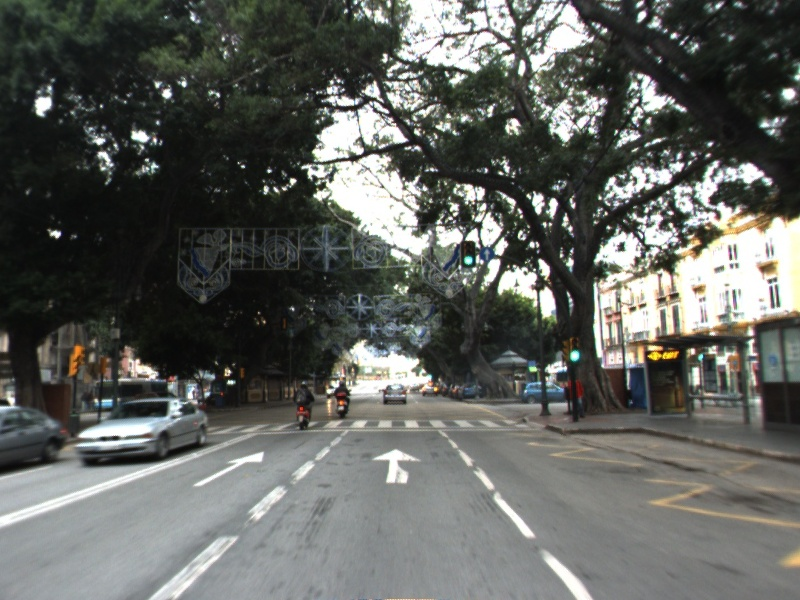STRAIGHT: (191, 449, 267, 489), (369, 446, 424, 485)
